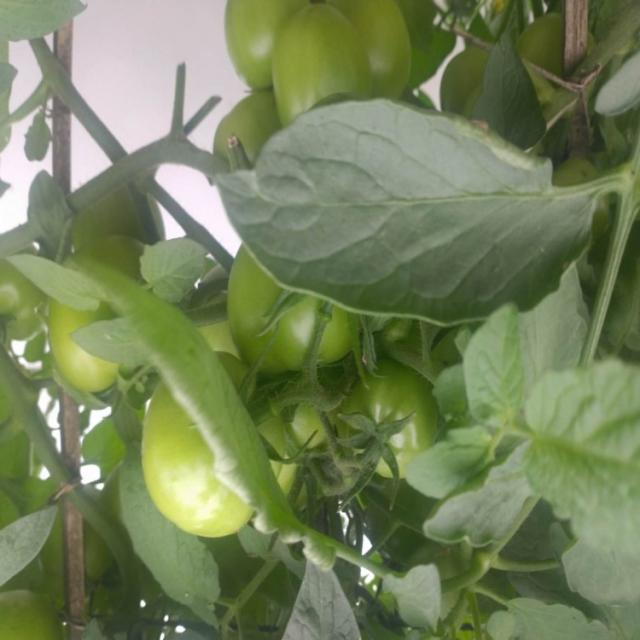tomato: (114, 381, 259, 557), (228, 1, 426, 127), (230, 246, 374, 381), (317, 355, 455, 482), (40, 246, 128, 407), (209, 89, 291, 162), (1, 580, 59, 636)
